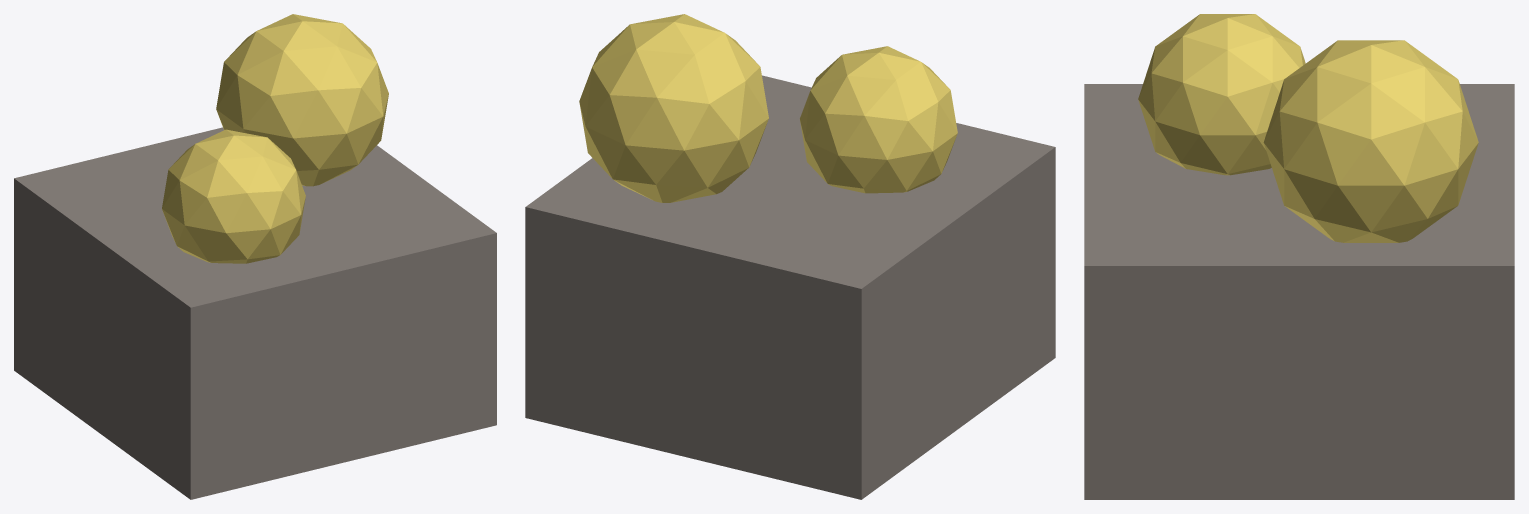
The model's file is goldmine_api.glb.
The picture shows the model from 3 angles, left to right: view 1: azimuth 30°, elevation 25°; view 2: azimuth 150°, elevation 25°; view 3: azimuth 270°, elevation 25°; orthographic projection. The views are drawn at different scales.
Parts seen in each view (by area): view 1: GoldMine_Base, GoldMine_Ore1, GoldMine_Ore2; view 2: GoldMine_Base, GoldMine_Ore1, GoldMine_Ore2; view 3: GoldMine_Base, GoldMine_Ore1, GoldMine_Ore2.
Boxes of the visible parts, x1,y1,x2,y2 form: GoldMine_Base: (14,127,496,499); GoldMine_Ore1: (216,14,388,186); GoldMine_Ore2: (162,129,305,263); GoldMine_Base: (525,75,1055,499); GoldMine_Ore1: (579,14,768,202); GoldMine_Ore2: (800,46,957,193); GoldMine_Base: (1084,84,1514,499); GoldMine_Ore1: (1263,40,1478,242); GoldMine_Ore2: (1138,14,1305,175).
Size of the model in its own units: 1.2 by 1.26 by 1.2.
